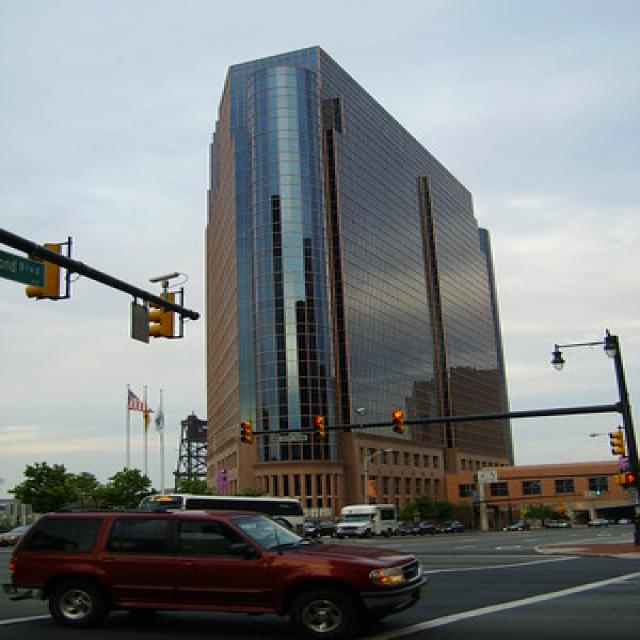building: (196, 41, 525, 526)
